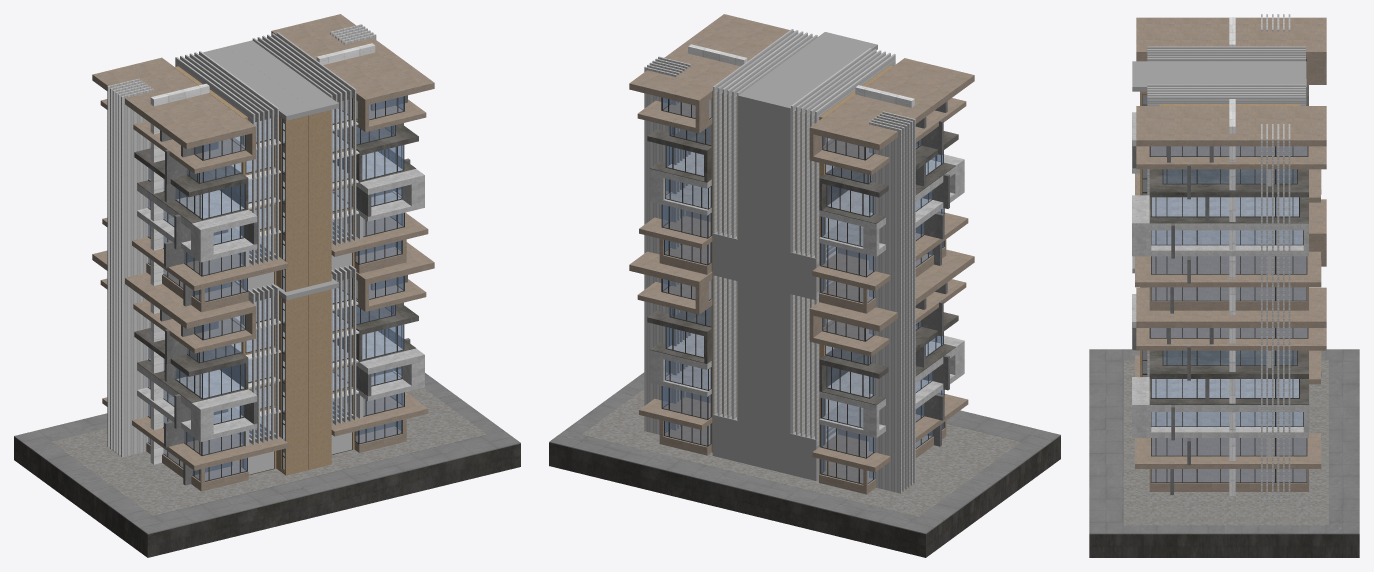
The model's file is modern_tower_terraces.glb.
3 views of the same model, side by side, from view 1: azimuth 30°, elevation 25°; view 2: azimuth 150°, elevation 25°; view 3: azimuth 270°, elevation 25° (orthographic).
Visible parts, largest first — view 1: Line006, Box025, Box062, Box026, Box070, Box072, Line005, Box071, Line001, Box033, Line016, Shape025 (+4 smaller); view 2: Box025, Line006, Box068, Box062, Box070, Box072, Box071, Line005, Line001, Shape025, Box026, Line016 (+3 smaller); view 3: Line006, Box062, Box072, Line005, Box025, Line001, Box071, Box070, Shape025, Box033, Box068, Box028 (+2 smaller).
Boxes of the visible parts, x1=… form: Line006: x1=92, y1=14, x2=434, y2=491; Box025: x1=107, y1=24, x2=376, y2=457; Box062: x1=148, y1=96, x2=403, y2=480; Box026: x1=174, y1=66, x2=354, y2=475; Box070: x1=14, y1=437, x2=520, y2=557; Box072: x1=14, y1=373, x2=520, y2=534; Line005: x1=137, y1=169, x2=424, y2=441; Box071: x1=51, y1=388, x2=486, y2=515; Line001: x1=134, y1=123, x2=418, y2=402; Box033: x1=149, y1=108, x2=402, y2=439; Line016: x1=160, y1=95, x2=410, y2=485; Shape025: x1=147, y1=96, x2=404, y2=481; Box025: x1=644, y1=29, x2=915, y2=493; Line006: x1=629, y1=14, x2=974, y2=494; Box068: x1=712, y1=32, x2=877, y2=480; Box062: x1=662, y1=98, x2=943, y2=483; Box070: x1=549, y1=436, x2=1060, y2=557; Box072: x1=549, y1=372, x2=1060, y2=534; Box071: x1=582, y1=389, x2=1020, y2=516; Line005: x1=650, y1=154, x2=964, y2=437; Line001: x1=647, y1=129, x2=958, y2=405; Shape025: x1=661, y1=97, x2=944, y2=484; Box026: x1=711, y1=65, x2=893, y2=474; Line016: x1=915, y1=101, x2=949, y2=446; Line006: x1=1135, y1=17, x2=1326, y2=491; Box062: x1=1142, y1=59, x2=1307, y2=482; Box072: x1=1089, y1=349, x2=1359, y2=534; Line005: x1=1132, y1=112, x2=1308, y2=437; Box025: x1=1147, y1=14, x2=1305, y2=503; Line001: x1=1149, y1=85, x2=1308, y2=404; Box071: x1=1124, y1=360, x2=1328, y2=525; Box070: x1=1089, y1=534, x2=1359, y2=557; Shape025: x1=1142, y1=59, x2=1308, y2=482; Box033: x1=1151, y1=197, x2=1298, y2=397; Box068: x1=1132, y1=61, x2=1306, y2=273; Box028: x1=1229, y1=17, x2=1235, y2=495.
Bounding box in the file's own units: 58.59 × 58.42 × 36.38.
Materials: 15 (11 with a texture image).
